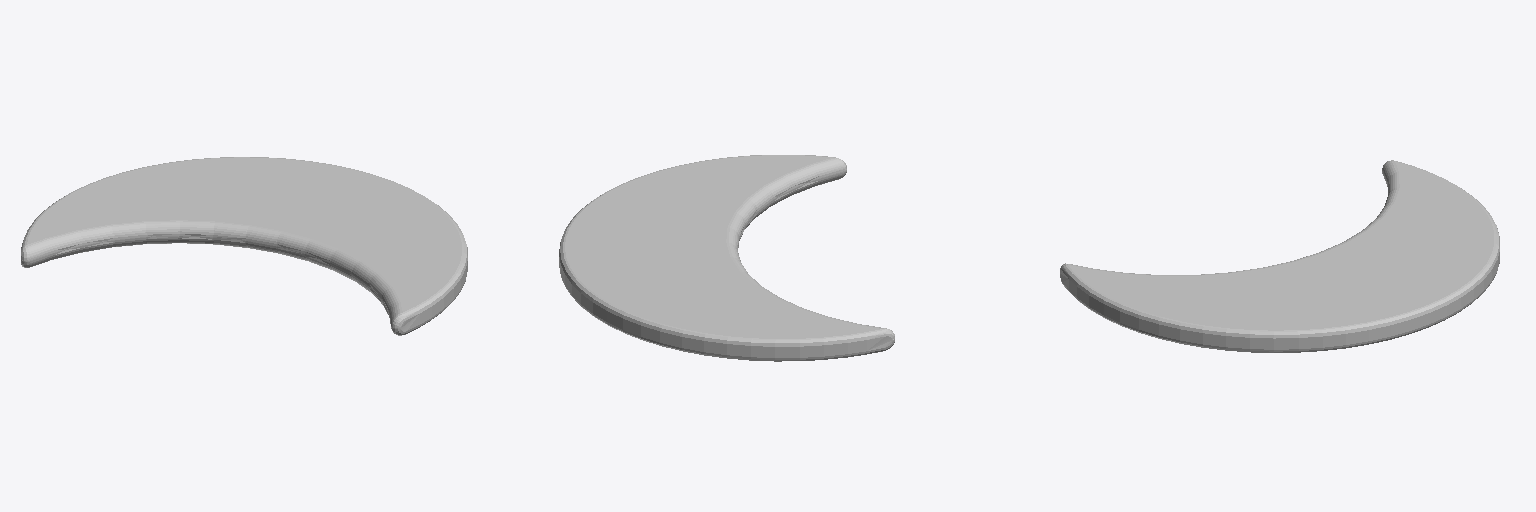
The picture shows the model from 3 angles: view 1: azimuth 30°, elevation 25°; view 2: azimuth 150°, elevation 25°; view 3: azimuth 270°, elevation 25°; orthographic projection.
Visible parts, largest first — view 1: Palash_Small_Palash_Small.001; view 2: Palash_Small_Palash_Small.001; view 3: Palash_Small_Palash_Small.001.
Part boxes in pixels (x1,y1,x2,y2): Palash_Small_Palash_Small.001: (21,157,467,335); Palash_Small_Palash_Small.001: (559,155,894,361); Palash_Small_Palash_Small.001: (1060,160,1499,352).
Bounding box in the file's own units: 3532 × 205 × 3729.